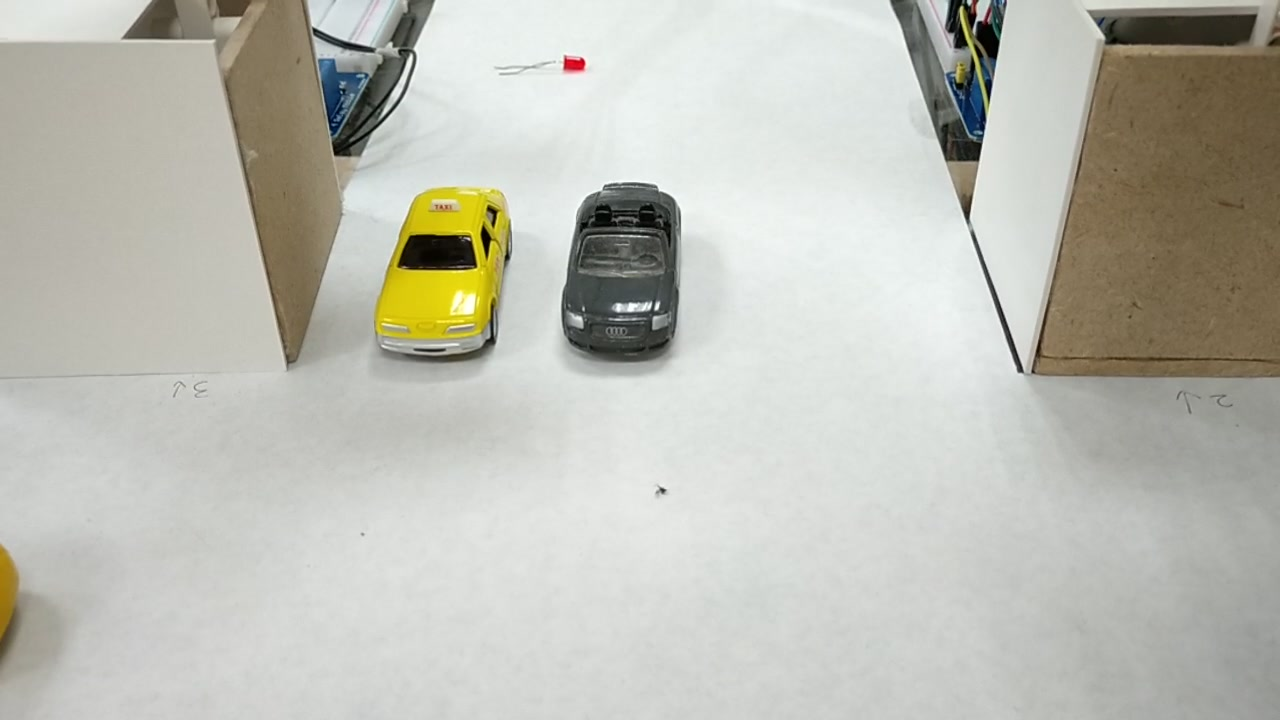car: (372, 182, 518, 364), (564, 182, 678, 351)
